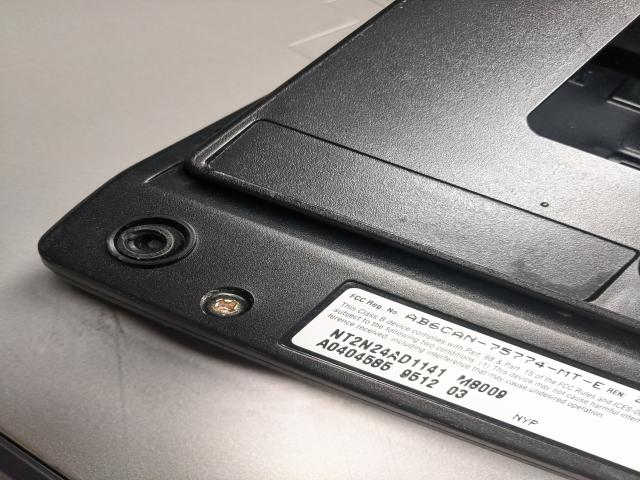CRS: (200, 292, 251, 320)
